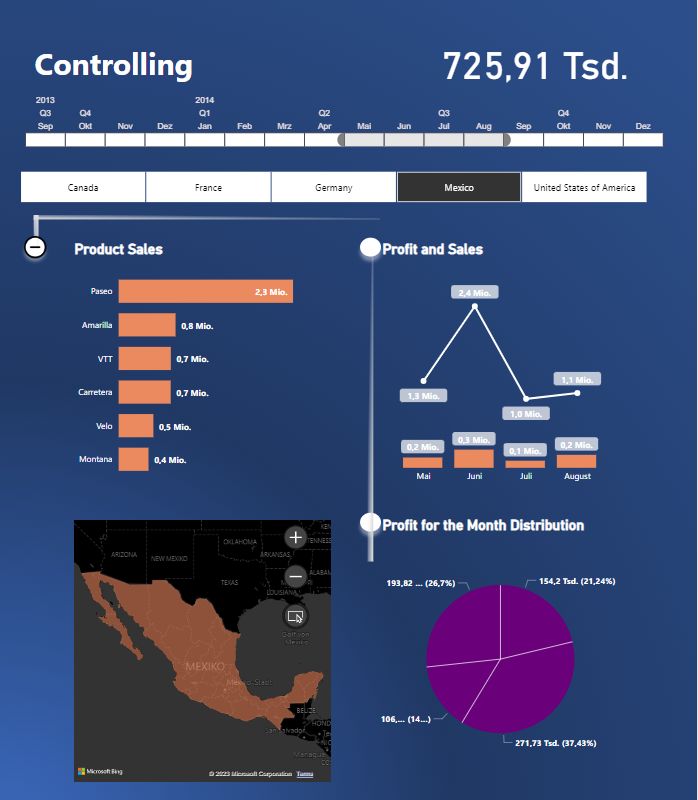

This screenshot's page, from the dashboard's own definition file:
{"tool":"powerbi","page":{"name":"Seite 1","canvas":[1000,1200],"ordinal":0},"visuals":[{"type":"actionButton","title":"Lines","box":[31.2,307.5,525,495],"z":0},{"type":"clusteredBarChart","title":"Product Sales","fields":{"Y":["Sum(financials. Sales)"],"Category":["financials.Product"]},"box":[105.7,344.3,375.7,354.3],"z":1000},{"type":"filledMap","fields":{"Category":["financials.Country"],"Y":["Sum(financials. Sales)"]},"box":[105.7,738.6,375.7,382.9],"z":2000},{"type":"pieChart","title":"Profit for the Month Distribution","fields":{"Category":["financials.Country"],"Series":["financials.Date"],"Y":["Sum(financials.Profit)"]},"box":[545.7,738.6,347.1,382.9],"z":3000},{"type":"Timeline1447991079100","fields":{"Time":["financials.Date"]},"box":[26.3,125,943.4,113.2],"z":4000},{"type":"lineStackedColumnComboChart","title":" Profit and Sales ","fields":{"Y":["Sum(financials.Profit)"],"Category":["financials.Date.Variation.Datumshierarchie.Monat"],"Y2":["Sum(financials.Gross Sales)"]},"box":[545.7,344.3,347.1,354.3],"z":5000},{"type":"slicer","title":"Selection for countries","fields":{"Values":["financials.Country"]},"box":[9.2,238.2,943.4,56.6],"z":6000},{"type":"card","title":"Total profit card","fields":{"Values":["Sum(financials.Profit)"]},"box":[565.8,30.3,403.9,113.2],"z":7000},{"type":"textbox","title":"Title","box":[48.6,55.7,432.9,70],"z":8000},{"type":"actionButton","title":"- minus","box":[38.9,336.7,32.2,32.2],"z":10000}]}

Visuals, with their boxes on the page's 1000x1200 design canvas (x1, y1, x2, y2). These are canvas units, not pixel positions in the 698x800 screenshot, which may show the page scaled, cropped or inside an application window:
"Lines" actionButton: 31,308,556,802
"Product Sales" clusteredBarChart: 106,344,481,699
filledMap - financials.Country x Sum(financials. Sales): 106,739,481,1122
"Profit for the Month Distribution" pieChart: 546,739,893,1122
Timeline1447991079100 - financials.Date: 26,125,970,238
" Profit and Sales " lineStackedColumnComboChart: 546,344,893,699
"Selection for countries" slicer: 9,238,953,295
"Total profit card" card: 566,30,970,144
"Title" textbox: 49,56,482,126
"- minus" actionButton: 39,337,71,369
